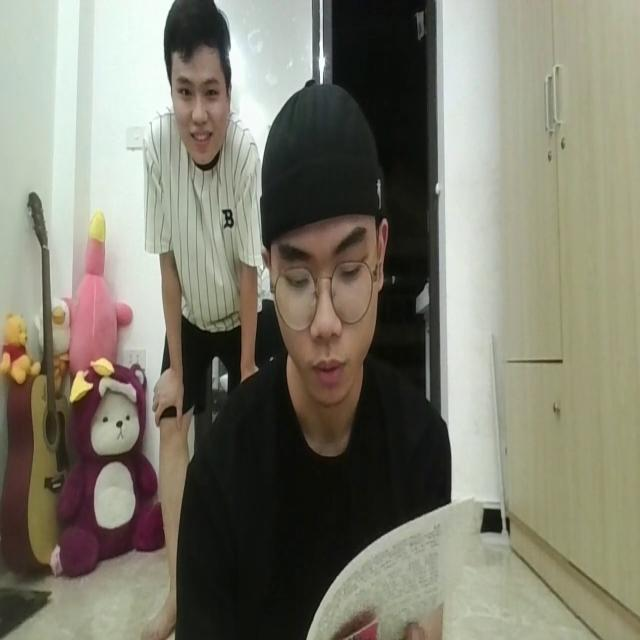book: (303, 486, 477, 640)
extra_person: (136, 0, 266, 433)
student: (182, 78, 448, 629)
